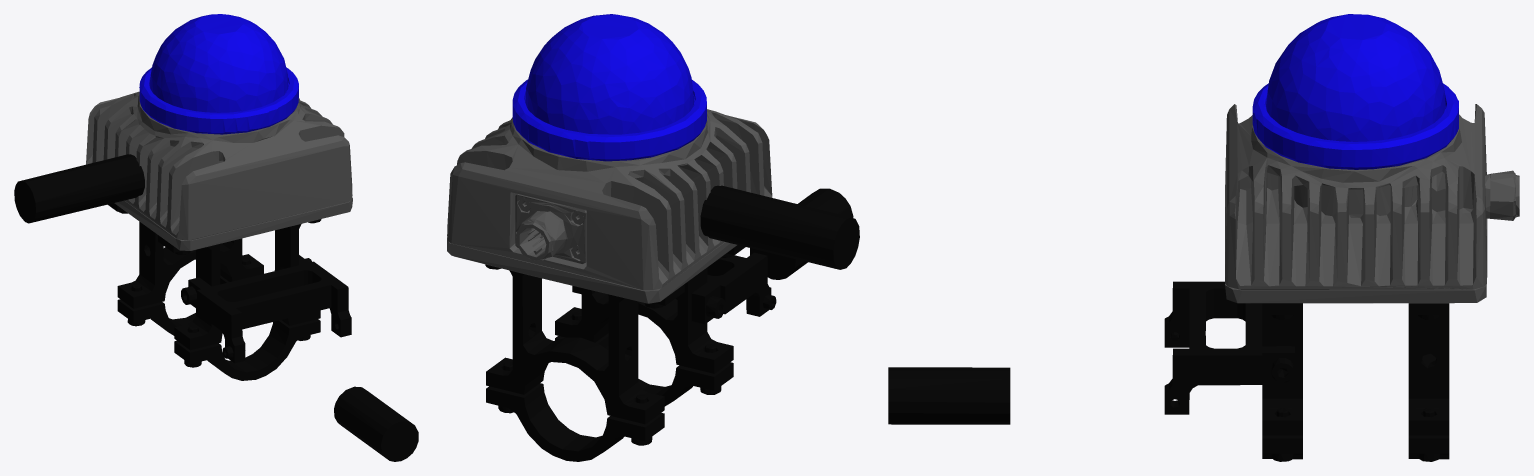
File: livox_mid360.dae
3 renders of one model, left to right at view 1: azimuth 30°, elevation 25°; view 2: azimuth 150°, elevation 25°; view 3: azimuth 270°, elevation 25°, orthographic. The views are drawn at different scales.
Visible parts, largest first — view 1: livox_mid360_black, livox_mid360_silver, livox_mid360_blue; view 2: livox_mid360_silver, livox_mid360_black, livox_mid360_blue; view 3: livox_mid360_silver, livox_mid360_black, livox_mid360_blue.
Boxes of the visible parts, x1,y1,x2,y2 form: livox_mid360_black: (14,154,418,461); livox_mid360_silver: (86,91,352,250); livox_mid360_blue: (139,14,298,134); livox_mid360_silver: (447,109,772,303); livox_mid360_black: (485,185,859,461); livox_mid360_blue: (512,14,706,161); livox_mid360_silver: (1225,104,1519,303); livox_mid360_black: (888,281,1449,461); livox_mid360_blue: (1252,14,1458,169).
Size of the model in its own units: 0.1037 by 0.1553 by 0.1156.
